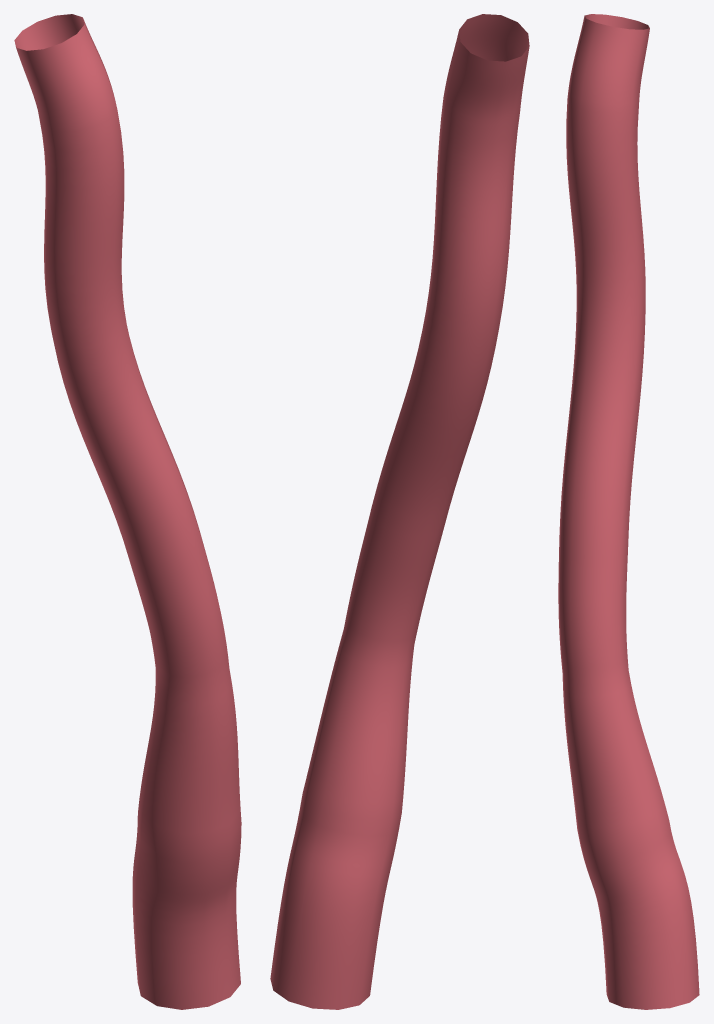
3 renders of one model, left to right at view 1: azimuth 30°, elevation 25°; view 2: azimuth 150°, elevation 25°; view 3: azimuth 270°, elevation 25°, orthographic. The views are drawn at different scales.
Parts seen in each view (by area): view 1: ZA_a953936612718b0c; view 2: ZA_a953936612718b0c; view 3: ZA_a953936612718b0c.
Part boxes in pixels (x1,y1,x2,y2): ZA_a953936612718b0c: (14, 14, 241, 1009); ZA_a953936612718b0c: (270, 14, 529, 1009); ZA_a953936612718b0c: (558, 14, 699, 1009).
Bounding box in the file's own units: 0.0181 × 0.0753 × 0.0105.
